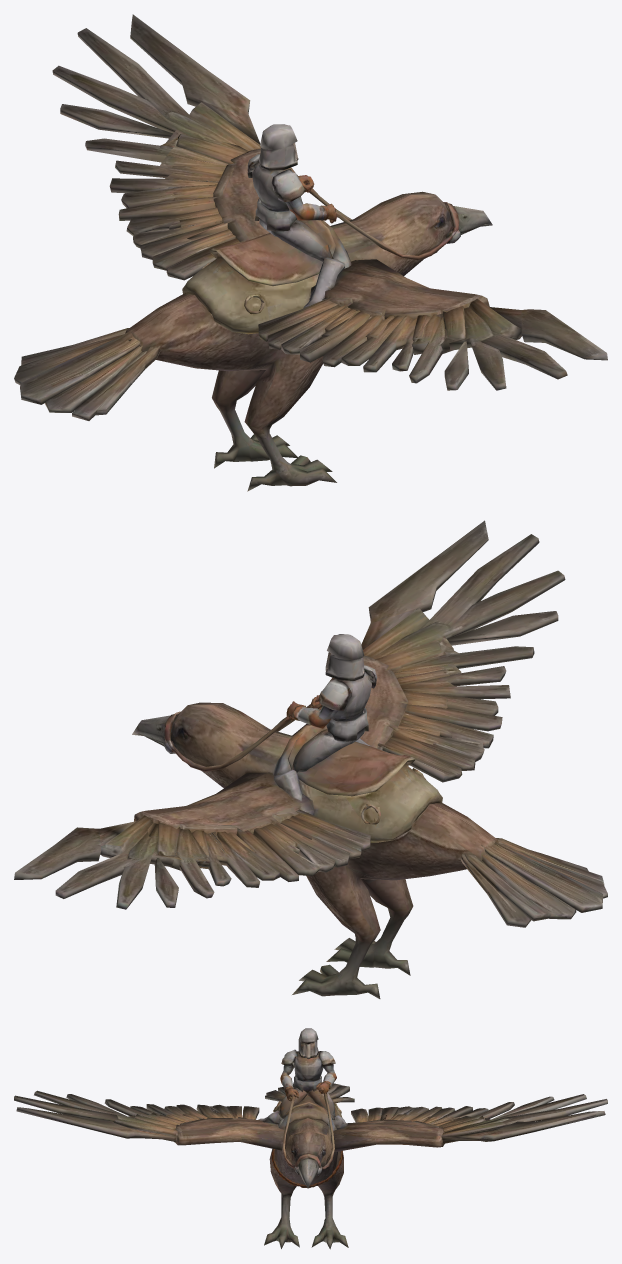
The model's file is crow-rider.glb.
The picture shows the model from 3 angles, top to bottom: view 1: azimuth 30°, elevation 25°; view 2: azimuth 150°, elevation 25°; view 3: azimuth 270°, elevation 25°; orthographic projection. The views are drawn at different scales.
Parts seen in each view (by area): view 1: tripo_node_e81cc2a8-155b-48cc-a877-bd5395f04592; view 2: tripo_node_e81cc2a8-155b-48cc-a877-bd5395f04592; view 3: tripo_node_e81cc2a8-155b-48cc-a877-bd5395f04592.
Part boxes in pixels (x1,y1,x2,y2): tripo_node_e81cc2a8-155b-48cc-a877-bd5395f04592: [14, 14, 607, 491]; tripo_node_e81cc2a8-155b-48cc-a877-bd5395f04592: [14, 520, 607, 998]; tripo_node_e81cc2a8-155b-48cc-a877-bd5395f04592: [14, 1028, 607, 1249].
Size of the model in its own units: 0.5684 by 0.3926 by 0.998.
Materials: 1 (1 with a texture image).
